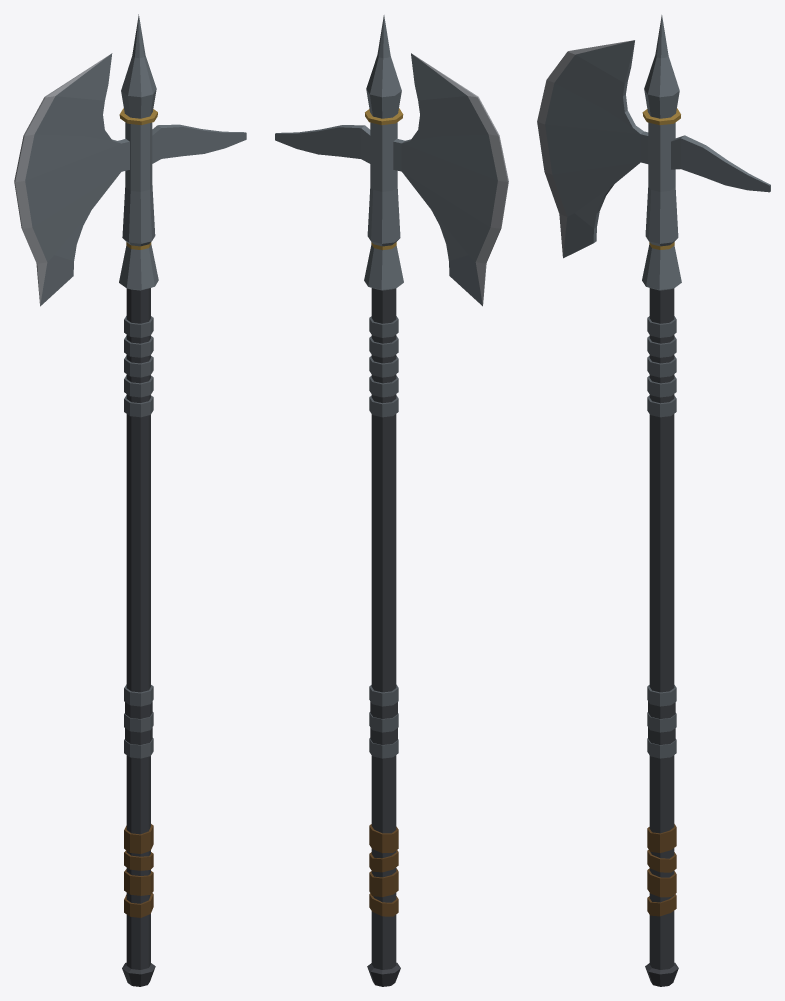
Rendered from PoleArm_B.glb.
The picture shows the model from 3 angles, left to right: view 1: azimuth 30°, elevation 25°; view 2: azimuth 150°, elevation 25°; view 3: azimuth 330°, elevation 25°; orthographic projection.
Parts seen in each view (by area): view 1: PoleArm_B; view 2: PoleArm_B; view 3: PoleArm_B.
Boxes of the visible parts, x1=… form: PoleArm_B: x1=14, y1=14, x2=246, y2=986; PoleArm_B: x1=275, y1=15, x2=508, y2=986; PoleArm_B: x1=537, y1=15, x2=770, y2=986.
Size of the model in its own units: 13231 by 52708 by 1847.
1 material, 1 textured.
